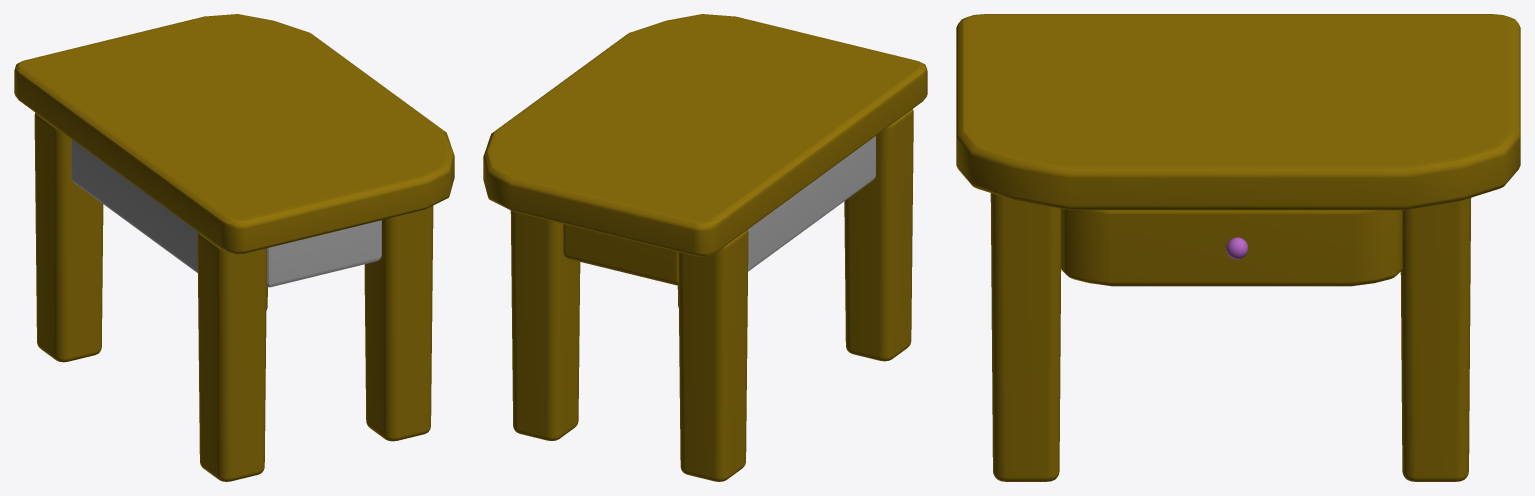
The model's file is StudyTableV1.fbx.
The picture shows the model from 3 angles, left to right: view 1: azimuth 30°, elevation 25°; view 2: azimuth 150°, elevation 25°; view 3: azimuth 270°, elevation 25°; orthographic projection. The views are drawn at different scales.
Parts seen in each view (by area): view 1: polySurface446, polySurface462, polySurface461, polySurface449, polySurface459, polySurface463; view 2: polySurface446, polySurface449, polySurface460, polySurface462, polySurface459, polySurface448; view 3: polySurface446, polySurface452, polySurface461, polySurface460.
Part boxes in pixels (x1,y1,x2,y2): polySurface446: (14, 14, 454, 254); polySurface462: (197, 232, 266, 481); polySurface461: (364, 206, 433, 441); polySurface449: (34, 112, 103, 362); polySurface459: (71, 139, 197, 272); polySurface463: (266, 220, 381, 287); polySurface446: (483, 14, 927, 256); polySurface449: (678, 230, 748, 481); polySurface460: (510, 210, 580, 440); polySurface462: (844, 109, 913, 361); polySurface459: (748, 136, 875, 271); polySurface448: (563, 224, 678, 285); polySurface446: (956, 14, 1520, 210); polySurface452: (1061, 208, 1402, 286); polySurface461: (990, 193, 1061, 481); polySurface460: (1400, 198, 1471, 481).
Size of the model in its own units: 2.8 by 2.7 by 4.06.
